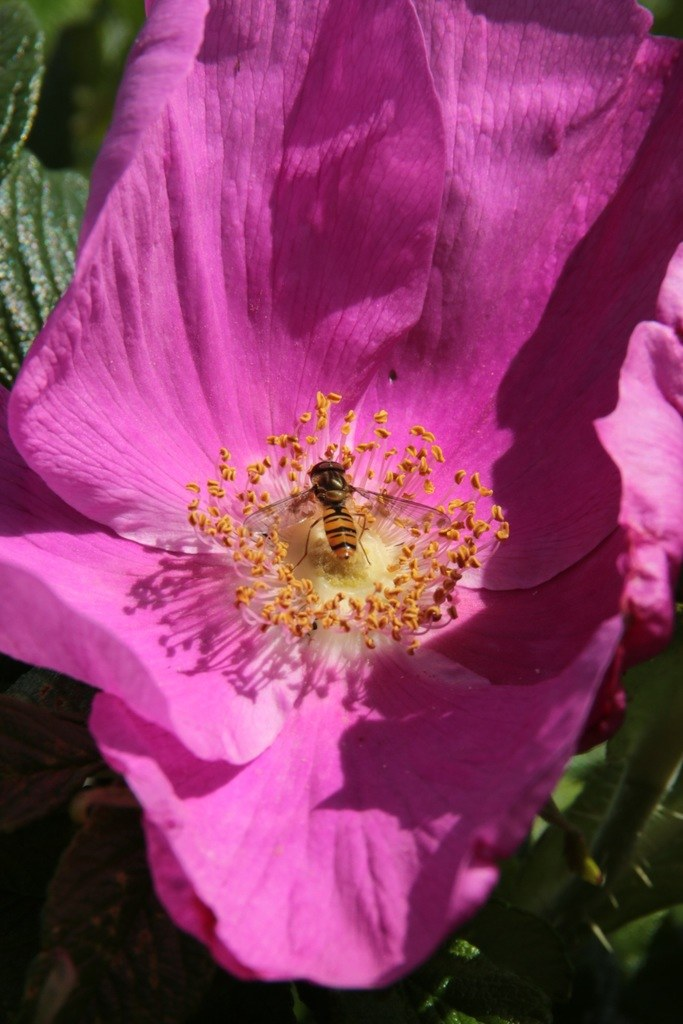bee: (242, 461, 455, 572)
insect: (25, 2, 647, 979)
